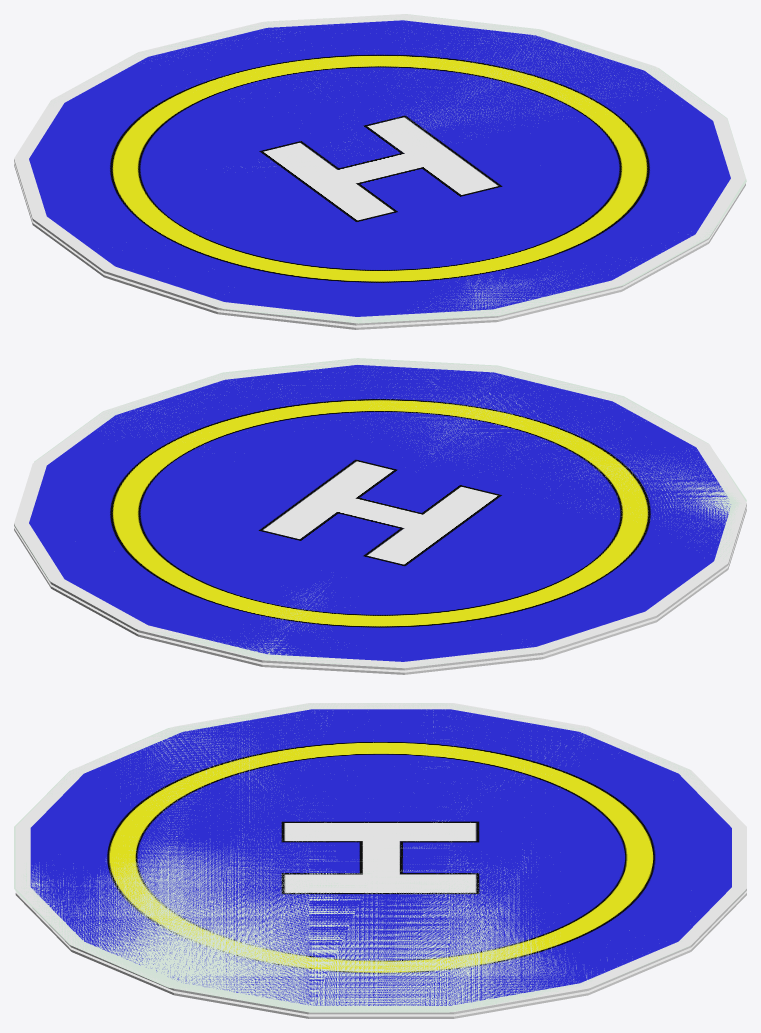
The model's file is GBZH35_Helipad_Hexa_Pad.gltf.
3 renders of one model, top to bottom at view 1: azimuth 30°, elevation 25°; view 2: azimuth 150°, elevation 25°; view 3: azimuth 270°, elevation 25°, orthographic.
Visible parts, largest first — view 1: Net_Hexa; view 2: Net_Hexa; view 3: Net_Hexa.
Boxes of the visible parts, box(x1,y1,x2,y2) form: Net_Hexa: box(14, 14, 746, 329); Net_Hexa: box(14, 358, 746, 674); Net_Hexa: box(14, 703, 746, 1018).
Size of the model in its own units: 19.66 by 0.2 by 19.67.
